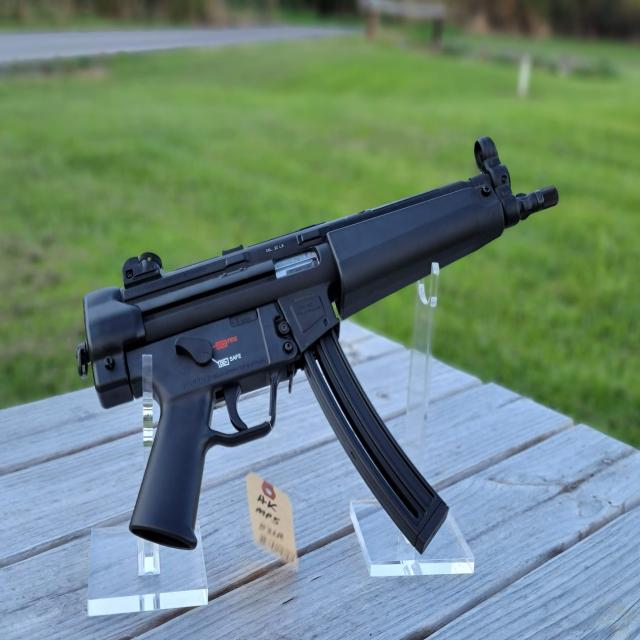SMG: (79, 138, 560, 576)
